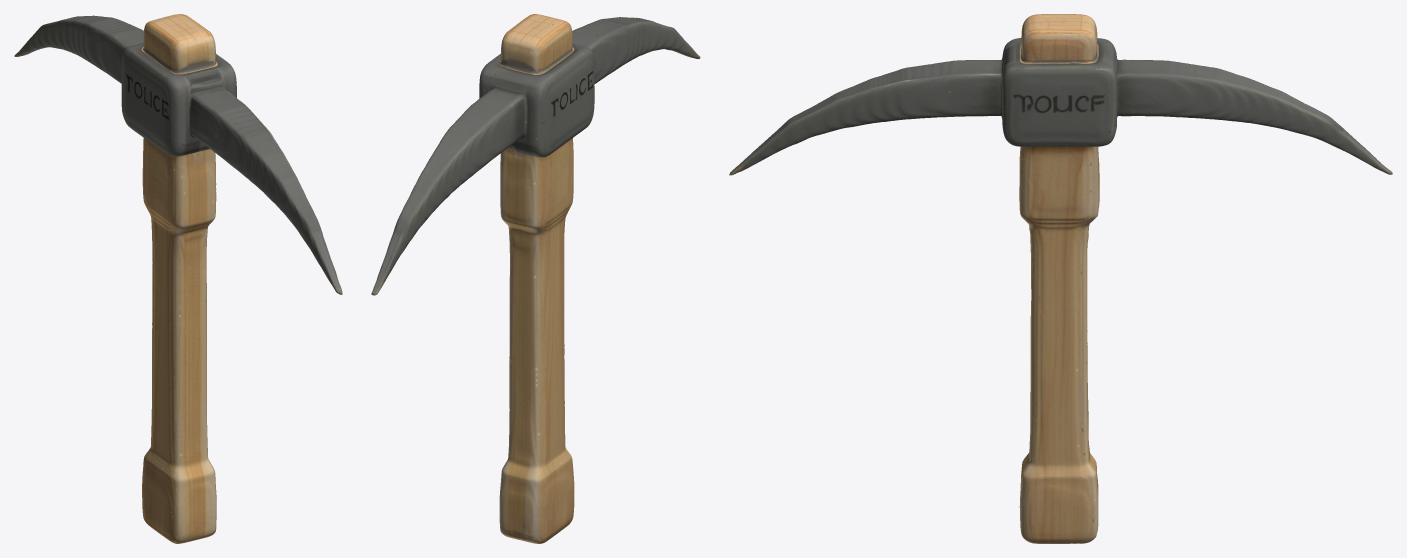
Rendered from Meshy_AI_Police_Pickaxe_0314162438_texture.fbx.
3 views of the same model, side by side, from view 1: azimuth 30°, elevation 25°; view 2: azimuth 150°, elevation 25°; view 3: azimuth 270°, elevation 25° (orthographic).
Parts seen in each view (by area): view 1: Mesh_0; view 2: Mesh_0; view 3: Mesh_0.
Part boxes in pixels (<box>): Mesh_0: <box>14,14,342,543</box>; Mesh_0: <box>371,14,700,543</box>; Mesh_0: <box>729,14,1392,543</box>.
Size of the model in its own units: 24.1 by 171 by 200.
Materials: 1 (1 with a texture image).
